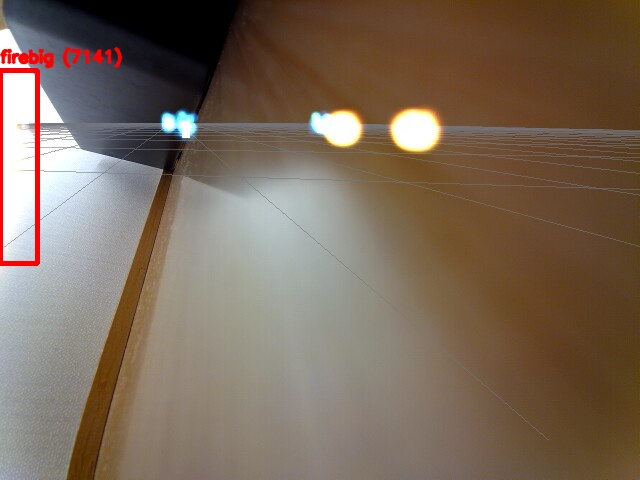firebig: (0, 70, 37, 263)
